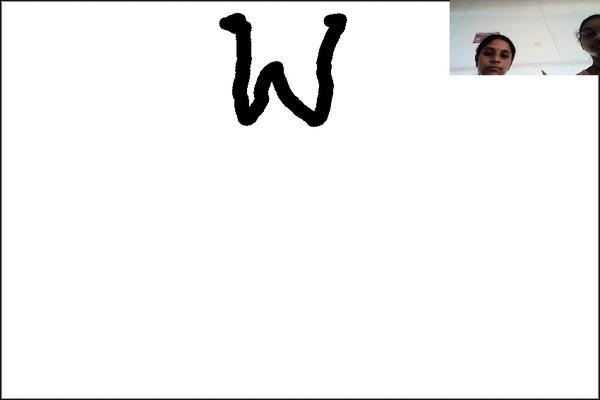w: (210, 1, 355, 152)
